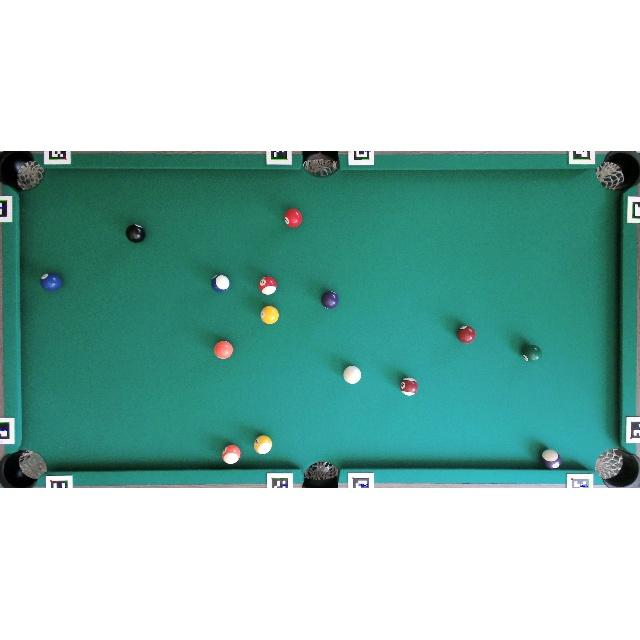cue ball: (343, 366, 361, 384)
other: (39, 272, 62, 292), (257, 276, 278, 296), (259, 305, 280, 325), (213, 340, 234, 360), (283, 207, 303, 228), (541, 449, 562, 469), (125, 223, 146, 243), (399, 377, 419, 397), (320, 290, 340, 310), (211, 274, 231, 293), (456, 325, 476, 344), (522, 344, 542, 362), (254, 435, 272, 454), (222, 445, 240, 464)
